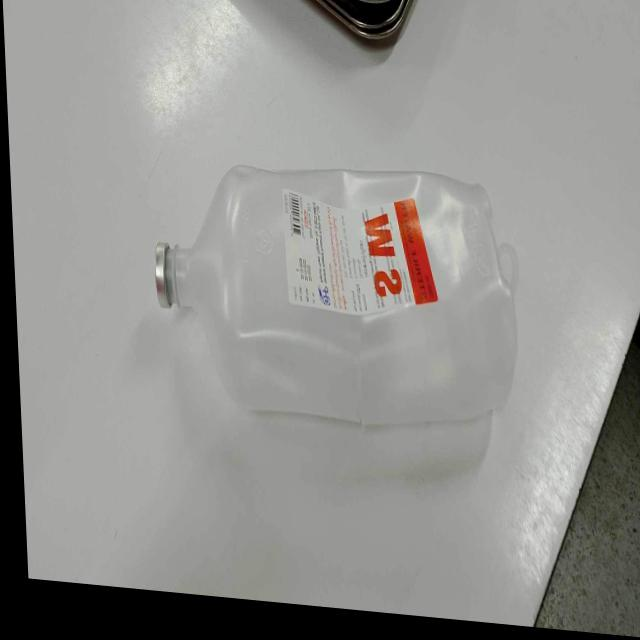General: (281, 187, 441, 317)
Infectious: (155, 162, 520, 428)
Sharps: (307, 0, 418, 42)
